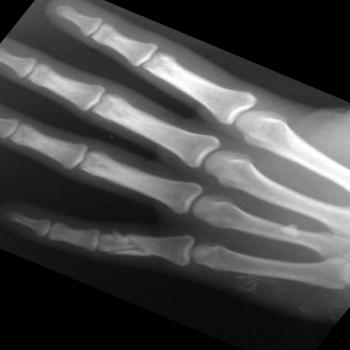Fracture: (108, 233, 154, 259)
